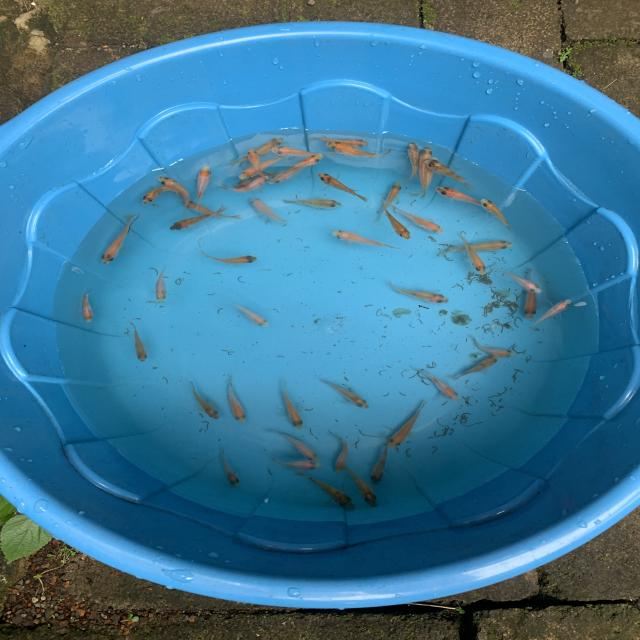nila: (381, 194, 446, 236), (293, 472, 354, 512), (387, 401, 432, 449), (316, 375, 372, 413), (268, 424, 322, 463), (166, 202, 231, 234), (232, 134, 286, 171), (277, 373, 310, 433), (411, 365, 464, 402), (99, 213, 138, 263), (313, 168, 370, 202), (436, 184, 498, 214), (434, 238, 519, 259), (424, 157, 478, 190), (331, 227, 405, 251), (413, 140, 441, 203), (452, 231, 490, 277), (182, 194, 246, 221), (188, 380, 224, 425), (386, 278, 453, 302), (492, 267, 546, 296), (222, 298, 272, 329), (244, 144, 279, 188), (449, 353, 504, 381), (528, 296, 576, 328), (478, 194, 518, 232), (344, 465, 380, 507), (216, 171, 276, 196), (411, 148, 442, 196), (275, 150, 328, 178), (154, 175, 194, 212), (325, 138, 394, 159), (197, 245, 265, 266), (376, 178, 406, 223), (382, 198, 414, 240), (235, 153, 288, 178), (247, 195, 291, 224), (223, 374, 248, 425), (467, 334, 520, 358), (231, 170, 288, 192), (370, 437, 395, 487), (303, 132, 371, 150), (262, 162, 310, 185), (219, 447, 246, 487), (267, 453, 325, 471), (195, 161, 215, 213), (279, 196, 348, 211), (268, 145, 340, 159), (326, 430, 350, 472), (139, 184, 183, 206), (150, 261, 171, 306), (524, 265, 540, 323), (128, 322, 151, 361), (401, 140, 420, 183), (80, 284, 97, 324)
